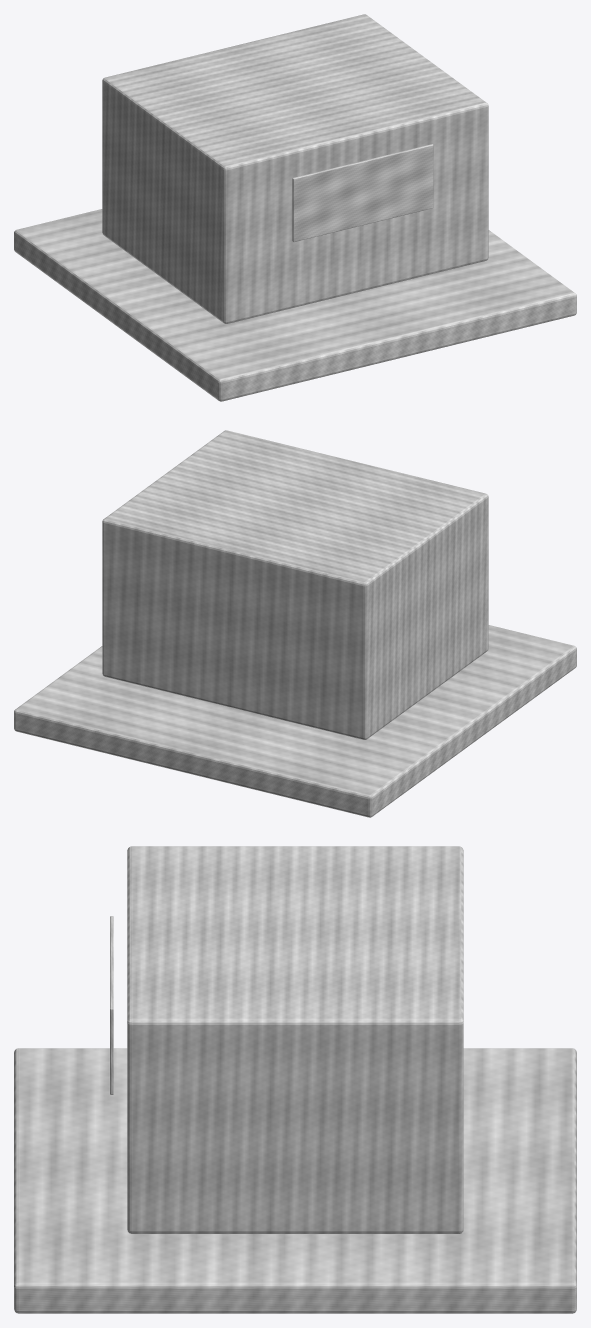
The model's file is priority-merger_variant_a.glb.
3 renders of one model, top to bottom at view 1: azimuth 30°, elevation 25°; view 2: azimuth 150°, elevation 25°; view 3: azimuth 270°, elevation 25°, orthographic. The views are drawn at different scales.
Visible parts, largest first — view 1: Fixture housing, Foundation, Control face.001; view 2: Fixture housing, Foundation; view 3: Fixture housing, Foundation, Control face.001.
Part boxes in pixels (x1,y1,x2,y2): Fixture housing: [102, 14, 488, 323]; Foundation: [14, 209, 576, 401]; Control face.001: [292, 144, 433, 241]; Fixture housing: [102, 430, 488, 739]; Foundation: [14, 625, 576, 817]; Fixture housing: [127, 846, 463, 1233]; Foundation: [14, 1048, 576, 1313]; Control face.001: [110, 916, 113, 1094].
Size of what is drawn, in the model's own units: 7.36 by 3.8 by 7.36.
4 materials, 4 textured.
